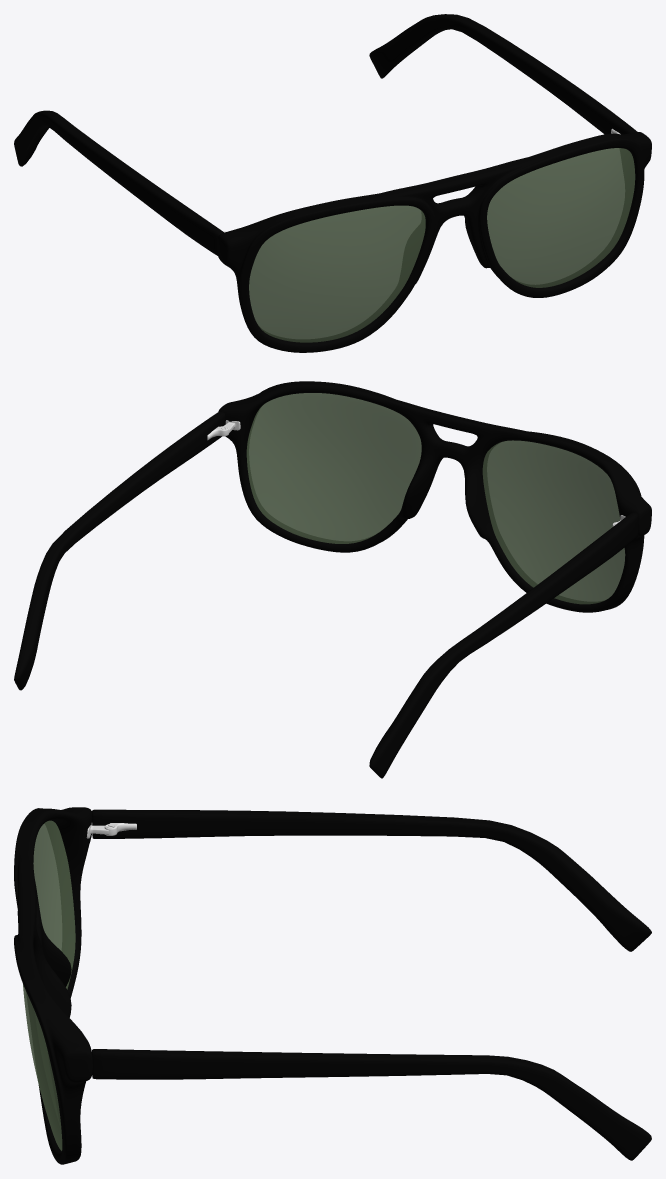
The model's file is hatcher-sun-sbf-jet-black-matte_wide.glb.
3 renders of one model, top to bottom at view 1: azimuth 30°, elevation 25°; view 2: azimuth 150°, elevation 25°; view 3: azimuth 270°, elevation 25°, orthographic. The views are drawn at different scales.
Visible parts, largest first — view 1: lenses, face_front, left_temple, right_temple; view 2: lenses, face_front, right_temple, left_temple; view 3: left_temple, right_temple, face_front, lenses.
Boxes of the visible parts, x1,y1,x2,y2 form: lenses: (249,148,635,342); face_front: (217,132,651,352); left_temple: (369,14,637,134); right_temple: (14,110,223,255); lenses: (246,393,625,604); face_front: (218,381,651,612); right_temple: (369,512,638,778); left_temple: (14,411,225,690); left_temple: (92,1049,651,1160); right_temple: (92,809,651,951); face_front: (14,807,92,1164); lenses: (23,820,75,1150).
Size of the model in its own units: 0.143 by 0.0496 by 0.1557.
